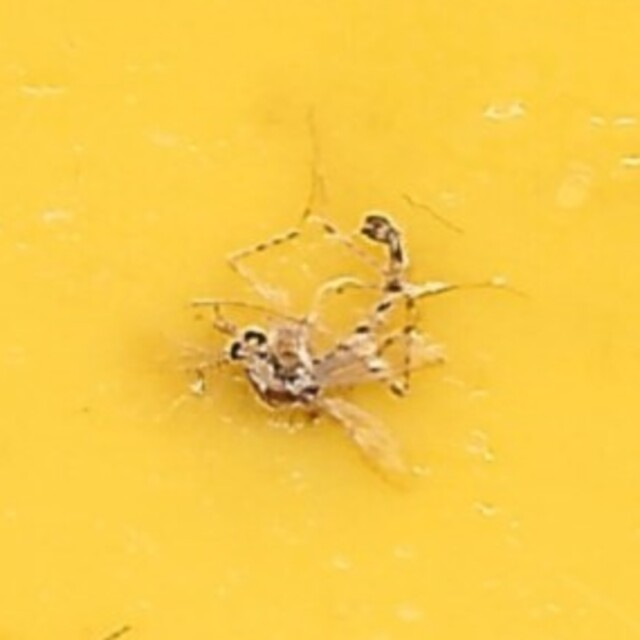Nematocera: (225, 206, 415, 434)
